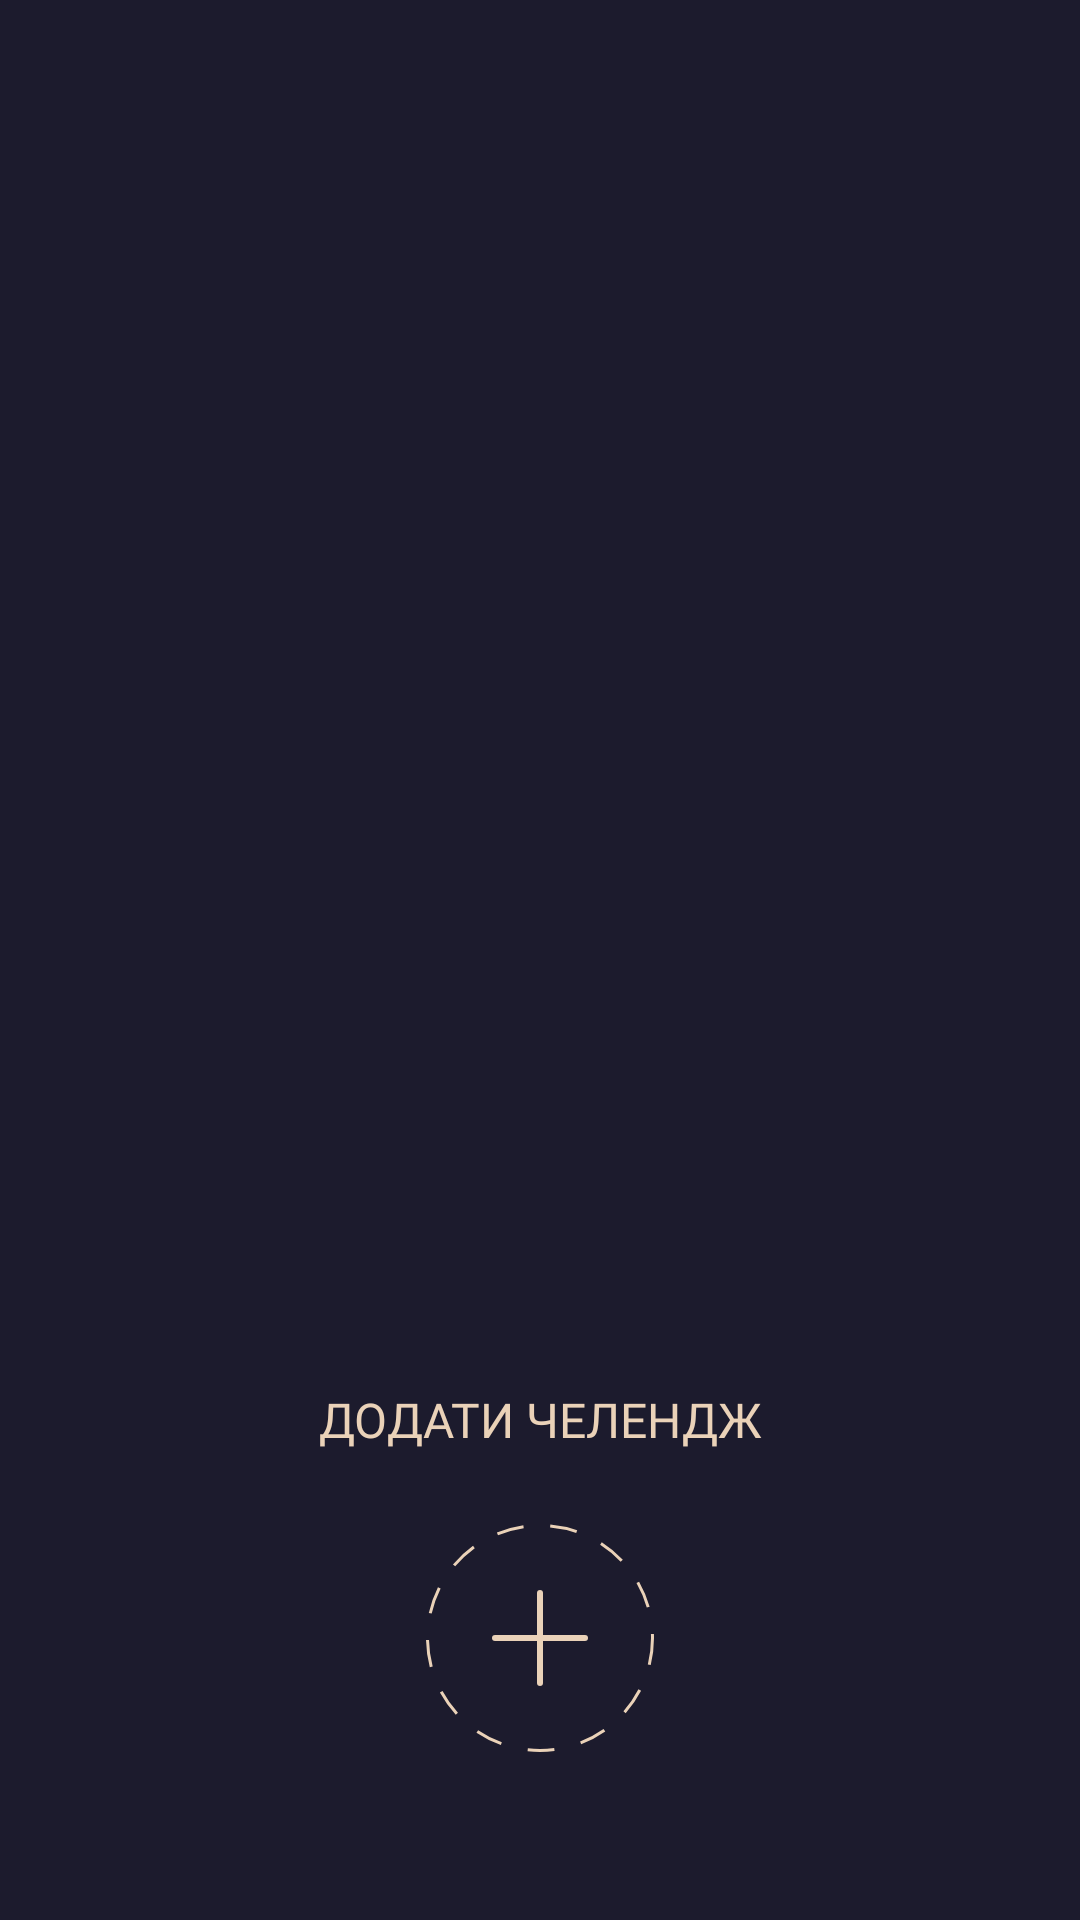

Icon bounding boxes for this 1080*1920 phone screenshot, format (x1,y1,x2,y2):
add challenge button: (492,1590,588,1686)
